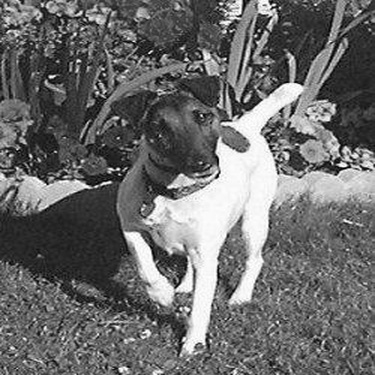dog: (84, 60, 307, 361)
